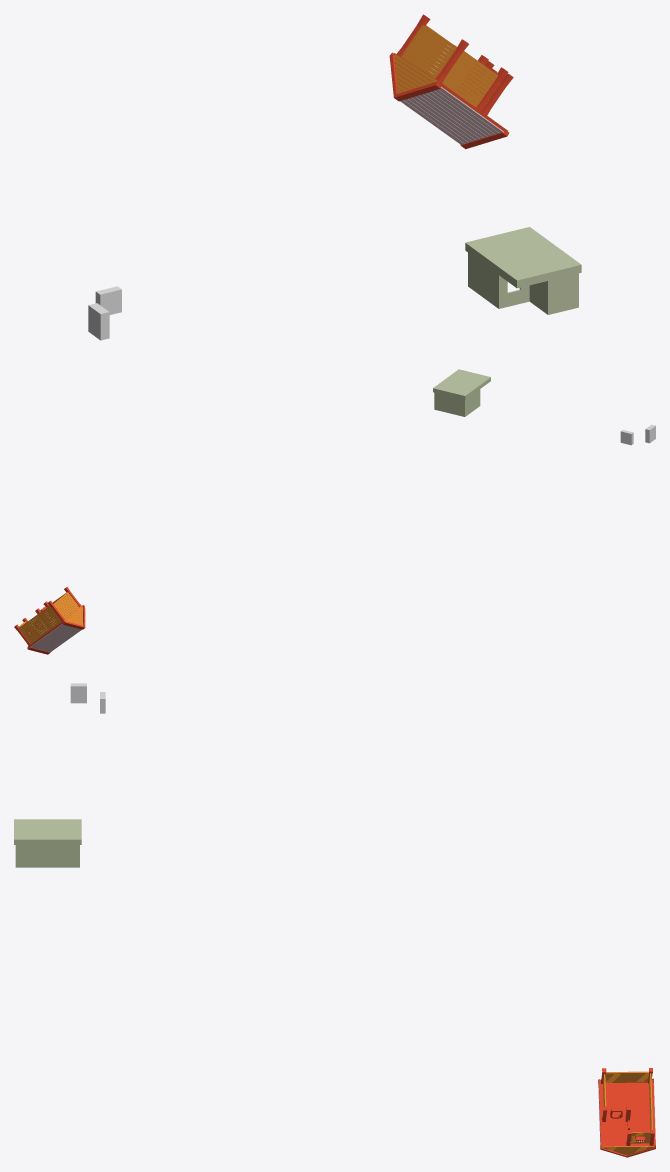
File: 小房子.fbx
3 renders of one model, top to bottom at view 1: azimuth 30°, elevation 25°; view 2: azimuth 150°, elevation 25°; view 3: azimuth 270°, elevation 25°, orthographic. The views are drawn at different scales.
Parts seen in each view (by area): view 1: 平面.003, 平面.010, 平面.005, 平面.006, 平面.004, 平面.012, 布尔窗户大小, 布尔窗户大小.001; view 2: 平面.003, 平面.007, 平面.010; view 3: 平面.003, 平面.004.
Part boxes in pixels (bbox=[...]): 平面.003: bbox=[465, 227, 581, 314]; 平面.010: bbox=[400, 87, 503, 144]; 平面.005: bbox=[442, 51, 497, 107]; 平面.006: bbox=[401, 25, 456, 78]; 平面.004: bbox=[389, 52, 509, 149]; 平面.012: bbox=[394, 54, 438, 93]; 布尔窗户大小: bbox=[88, 303, 109, 340]; 布尔窗户大小.001: bbox=[95, 286, 121, 314]; 平面.003: bbox=[433, 369, 490, 416]; 平面.007: bbox=[19, 606, 61, 643]; 平面.010: bbox=[30, 624, 81, 652]; 平面.003: bbox=[14, 819, 81, 867]; 平面.004: bbox=[598, 1078, 655, 1157].
Size of the model in its own units: 1666 by 644 by 1688.
